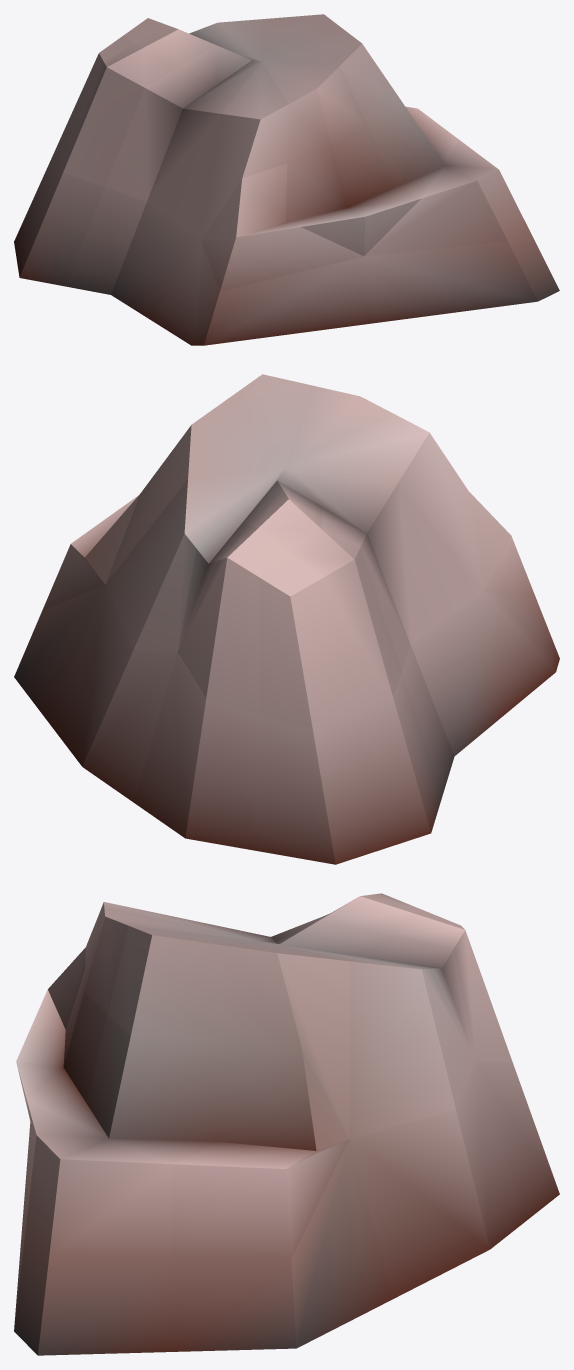
The model's file is rock_vclr.fbx.
3 views of the same model, one above another, from view 1: azimuth 30°, elevation 25°; view 2: azimuth 150°, elevation 25°; view 3: azimuth 270°, elevation 25° (orthographic). The views are drawn at different scales.
Visible parts, largest first — view 1: Cube; view 2: Cube; view 3: Cube.
Boxes of the visible parts, box(x1,y1,x2,y2) form: Cube: box(14, 14, 559, 345); Cube: box(14, 374, 559, 864); Cube: box(14, 893, 559, 1355).
Bounding box in the file's own units: 138 × 84.77 × 129.
